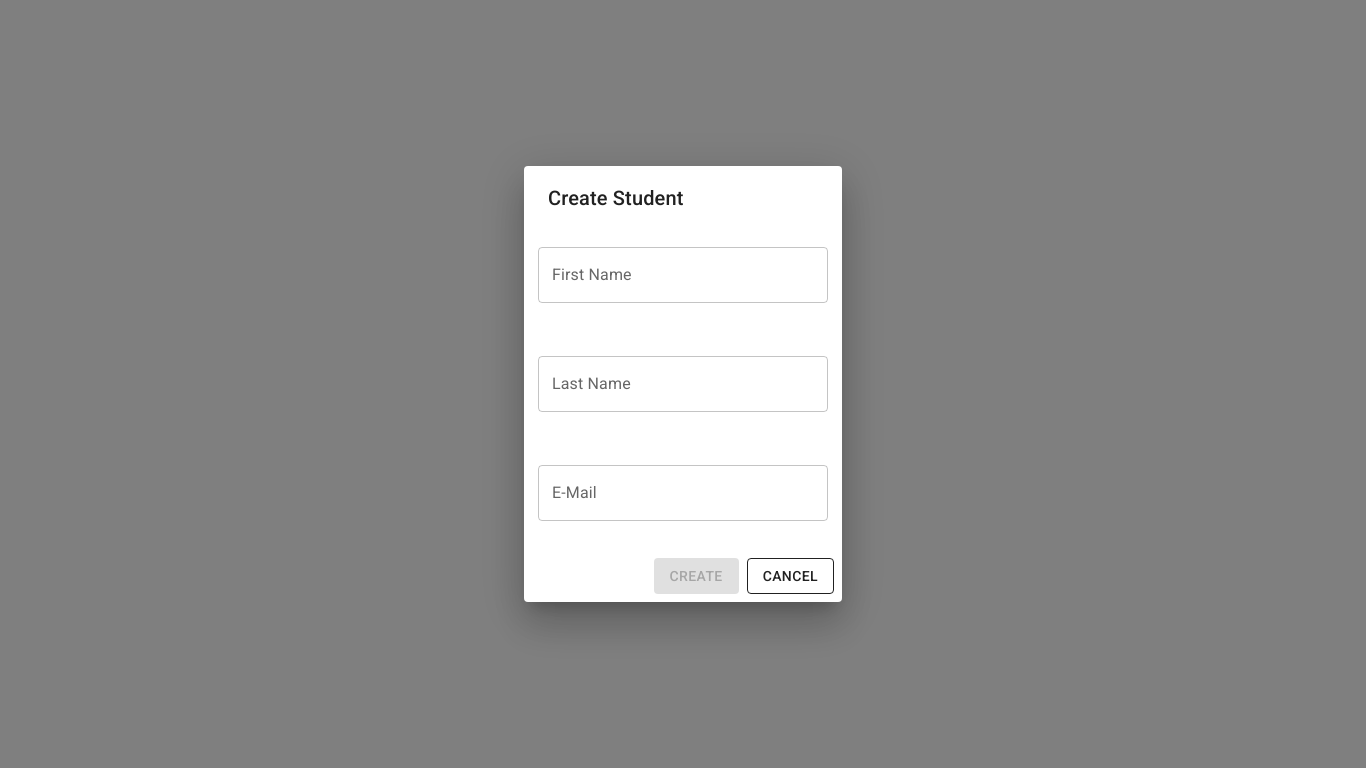
it: CreateStudentModal › Form Validation › validates email field
Type "invalid-email" into the field labelled "E-Mail".
click(683, 493); type("invalid-email")  # box [538,465,828,521]
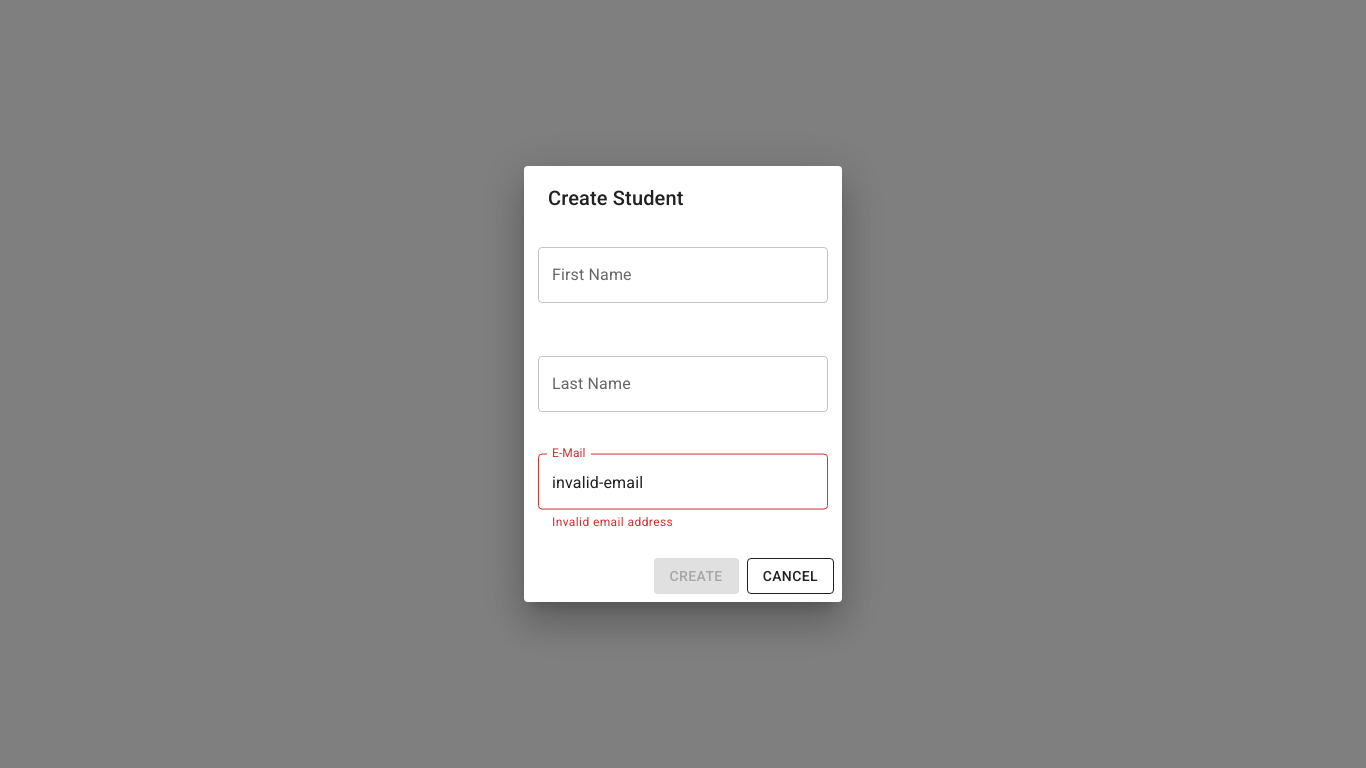
Result: the text "Invalid email address" is shown at [552,515,673,529]
Replace the text in the field labelled "E-Mail" with "solo@smuggler.com" at (683, 482), box [538,454,828,510]
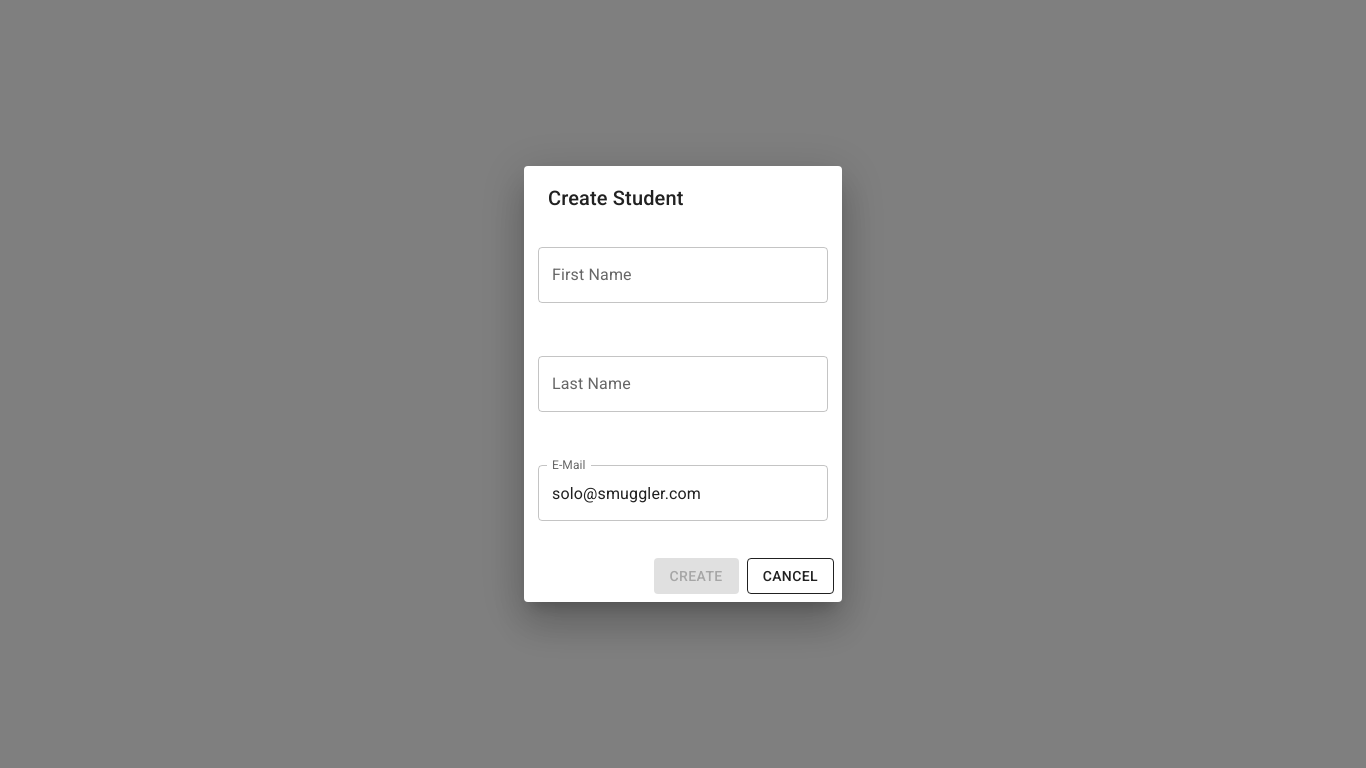
Result: the text "Invalid email address" is gone
